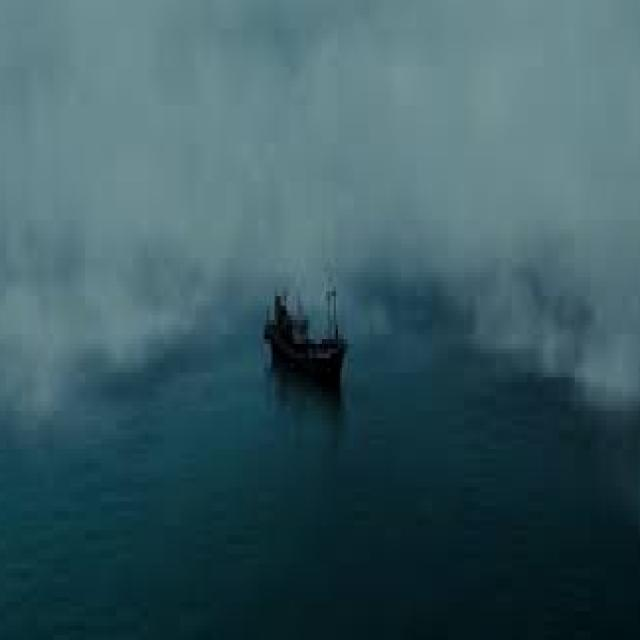fishing boat: (265, 261, 349, 384)
